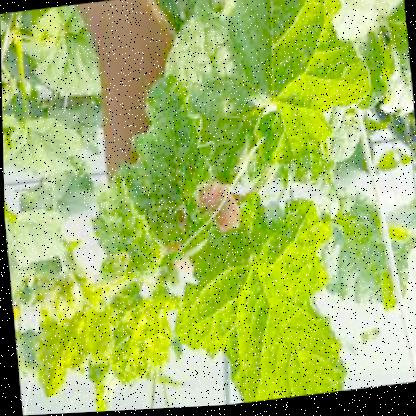CassavaMosaicDisease: (195, 0, 343, 174), (223, 202, 323, 405), (128, 102, 207, 215)
